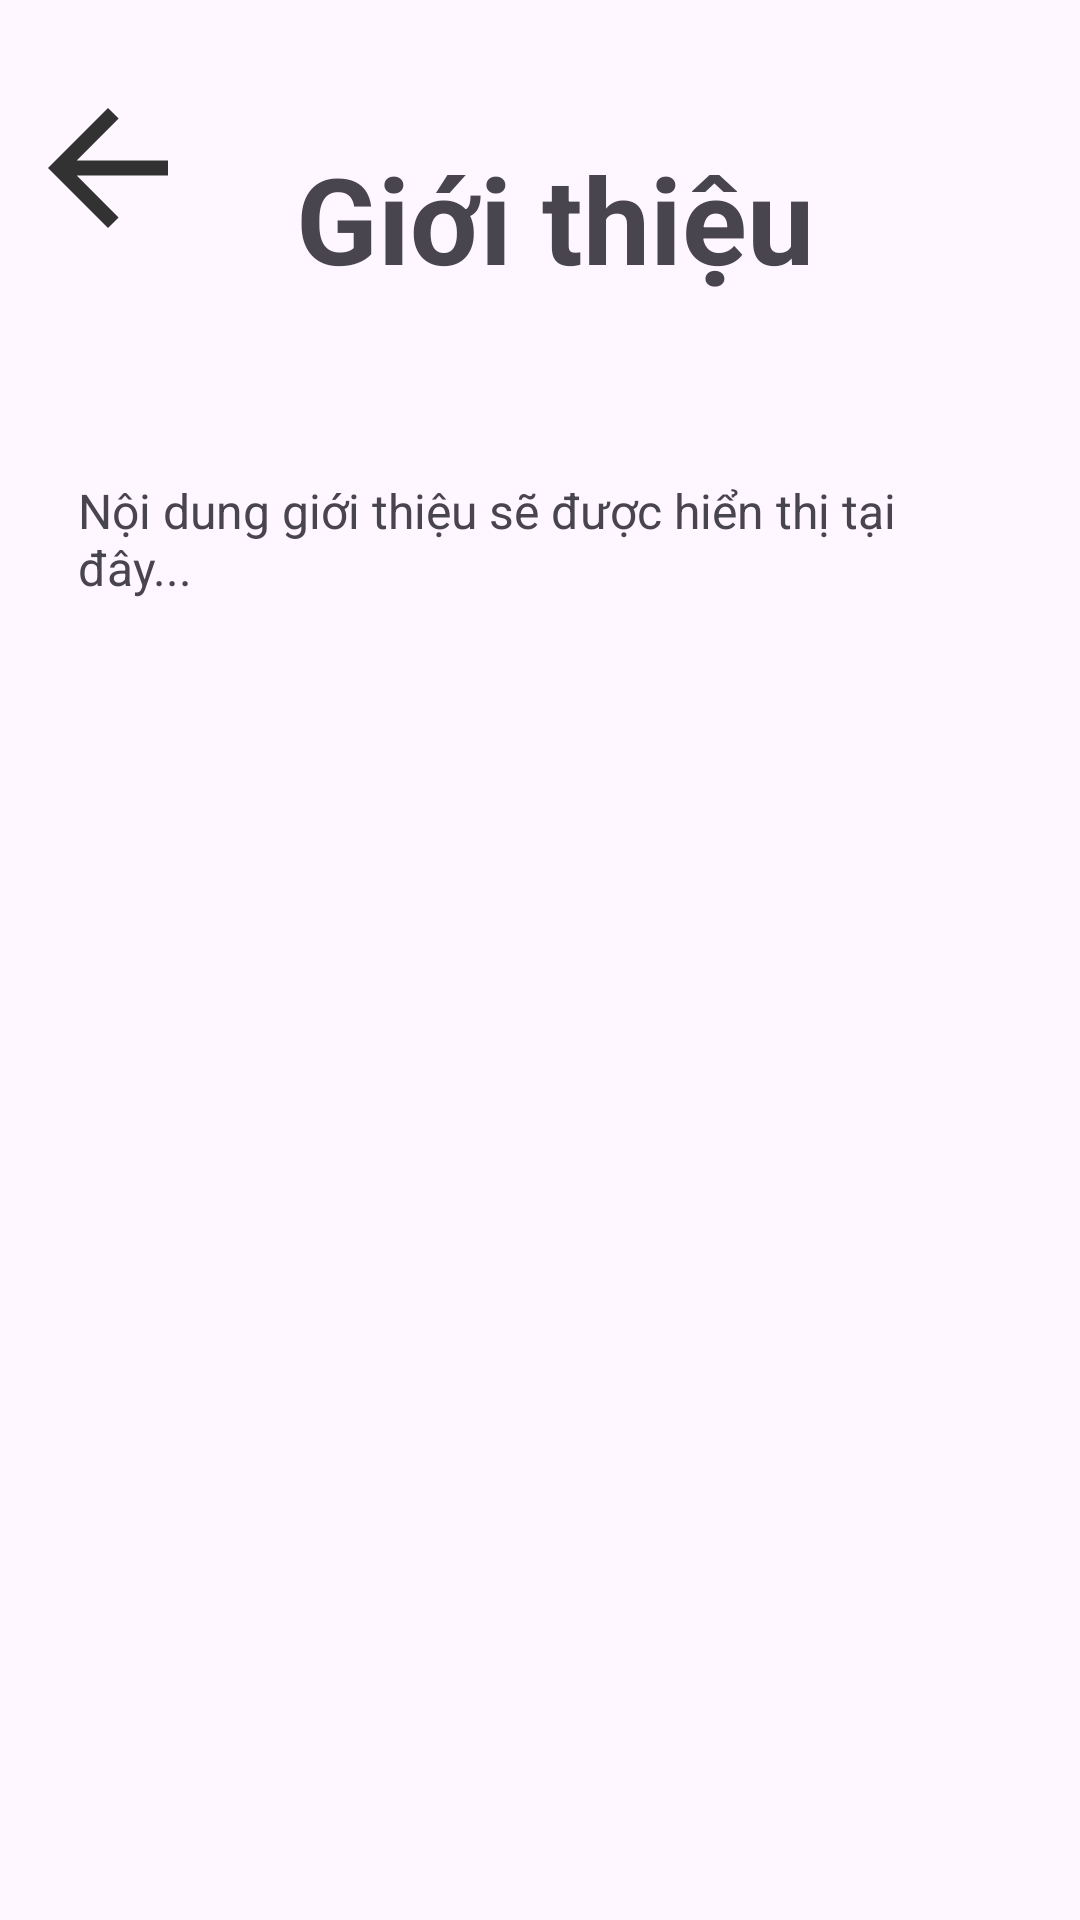

Point at icon controls on the screen. Image size 1080 × 1920, points as [x,y].
arrowback: [108,168]
